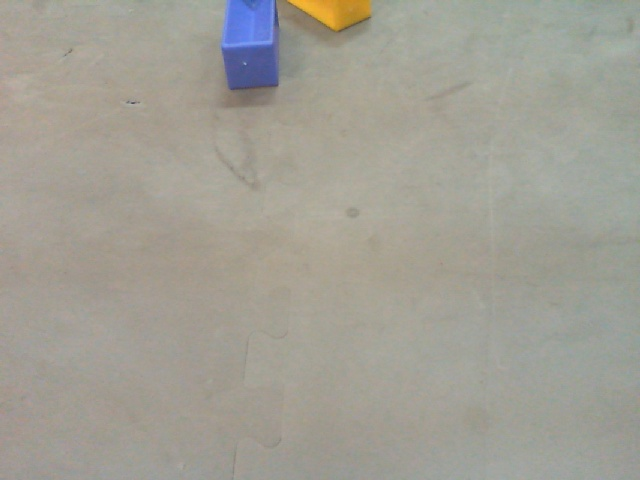BlueSample: (221, 1, 278, 91)
YellowSample: (284, 1, 374, 33)
